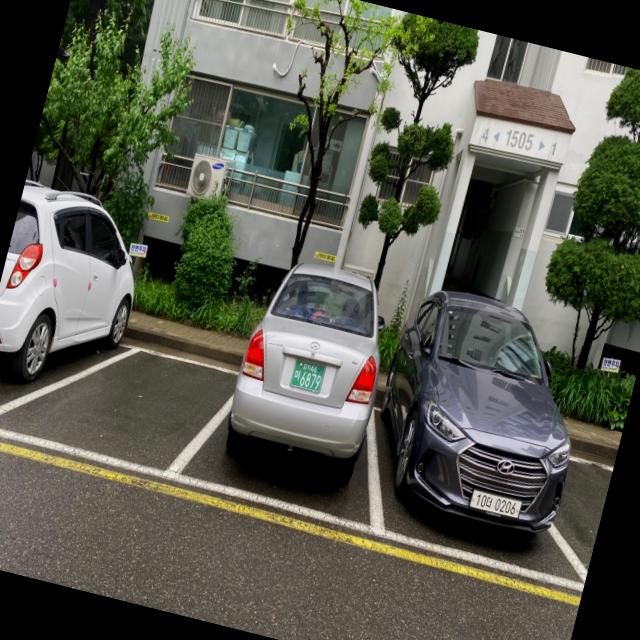car: (360, 294, 604, 574), (218, 248, 406, 476), (0, 178, 154, 399)
free: (0, 311, 242, 497)
